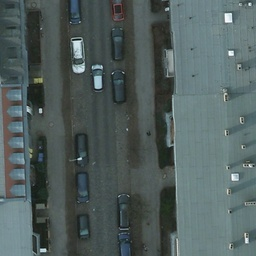car: (115, 196, 131, 228), (71, 37, 85, 73), (74, 173, 90, 203), (110, 27, 124, 61), (74, 132, 88, 165), (112, 70, 126, 101), (116, 229, 132, 254), (91, 64, 104, 91), (78, 213, 91, 240), (66, 1, 81, 24), (109, 1, 124, 23)
